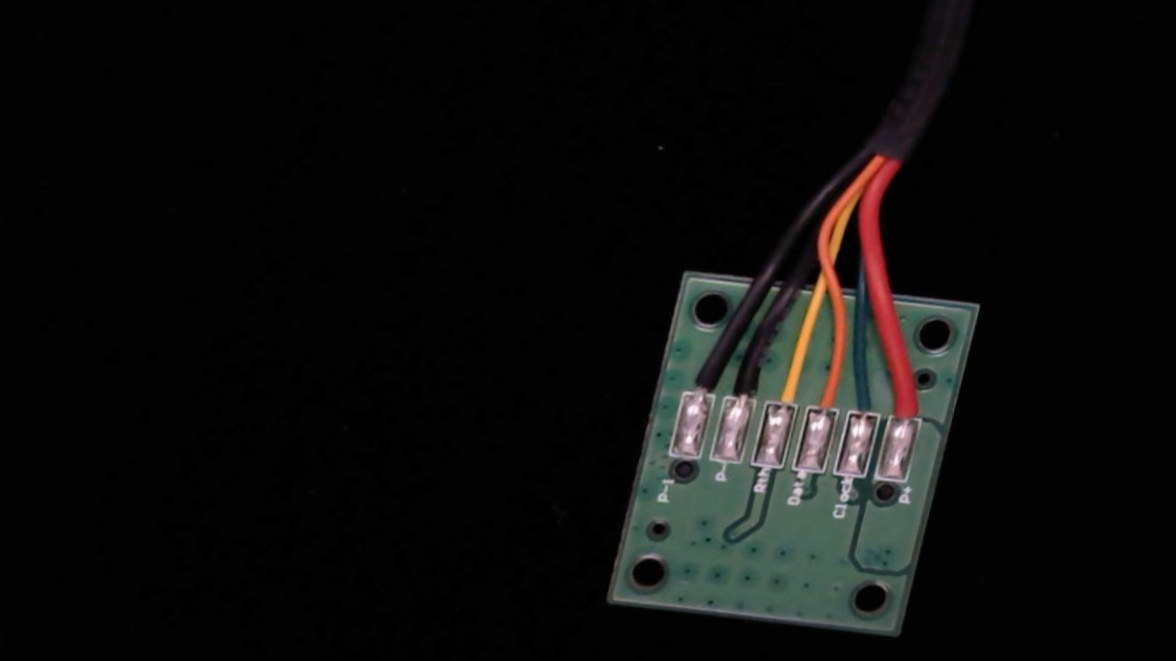Black: (719, 348, 769, 419)
Black1: (678, 350, 724, 414)
Green: (845, 368, 892, 433)
Orange: (804, 362, 850, 428)
Red: (884, 361, 934, 434)
Yellow: (762, 351, 809, 425)
